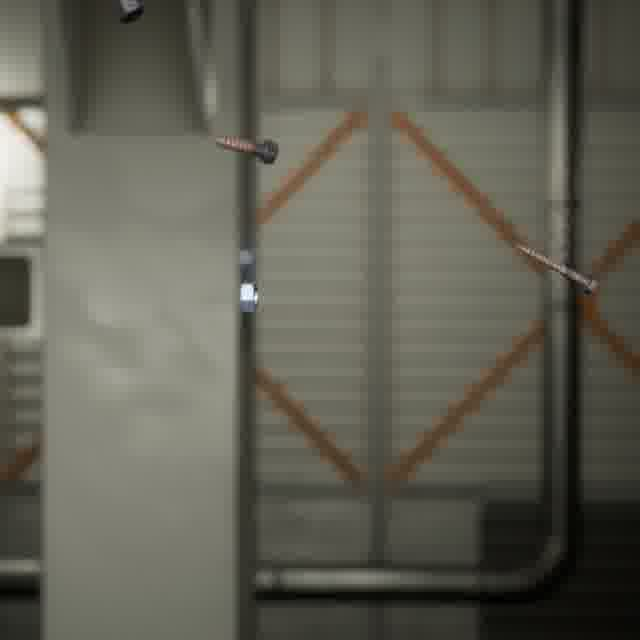bolt: (511, 239, 603, 299), (210, 130, 282, 169), (110, 0, 148, 28)
nut: (235, 277, 262, 315)
